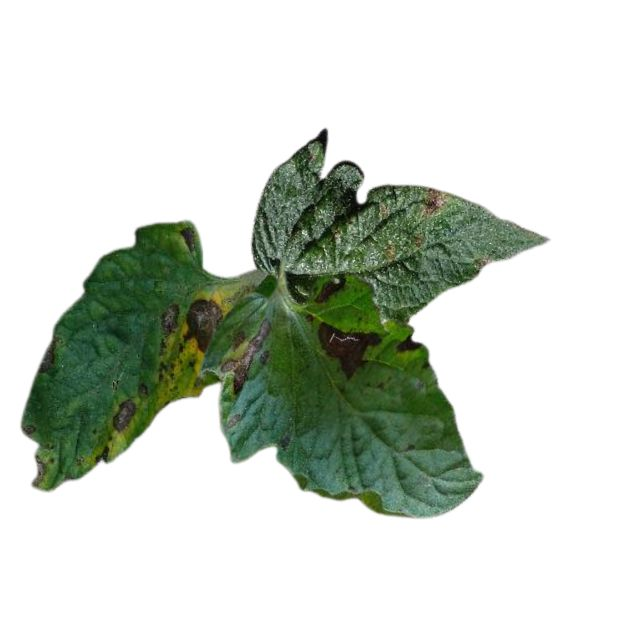Early_blight: (221, 317, 271, 391), (316, 322, 380, 377), (181, 295, 221, 356), (156, 300, 180, 340), (110, 398, 136, 433), (314, 275, 346, 303), (422, 187, 448, 220), (38, 338, 59, 373), (30, 447, 47, 486), (176, 224, 197, 252), (398, 330, 422, 353), (92, 442, 110, 461)
